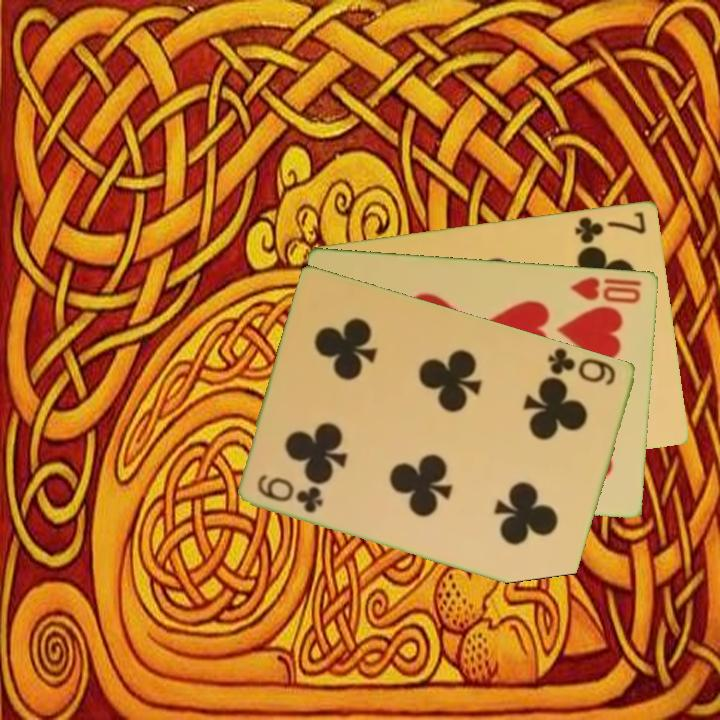10h: (567, 273, 644, 306)
6c: (254, 470, 327, 516), (544, 344, 620, 388)
7c: (572, 207, 650, 246)
